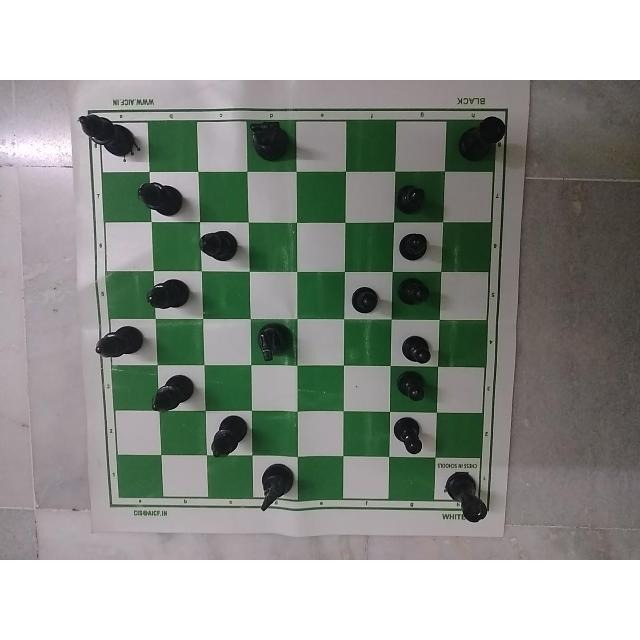black-bishop: (76, 107, 141, 160), (209, 408, 253, 463), (148, 370, 195, 418), (91, 327, 149, 365), (144, 272, 193, 316), (196, 223, 242, 268), (135, 179, 187, 215)
black-knight: (260, 456, 299, 528), (248, 120, 296, 170), (254, 316, 298, 366)
black-pawn: (389, 413, 433, 459), (395, 226, 435, 263), (394, 178, 429, 219), (351, 278, 385, 318), (398, 274, 435, 309), (392, 371, 430, 405), (398, 333, 437, 365)
black-rook: (440, 465, 487, 527), (453, 112, 506, 166)
